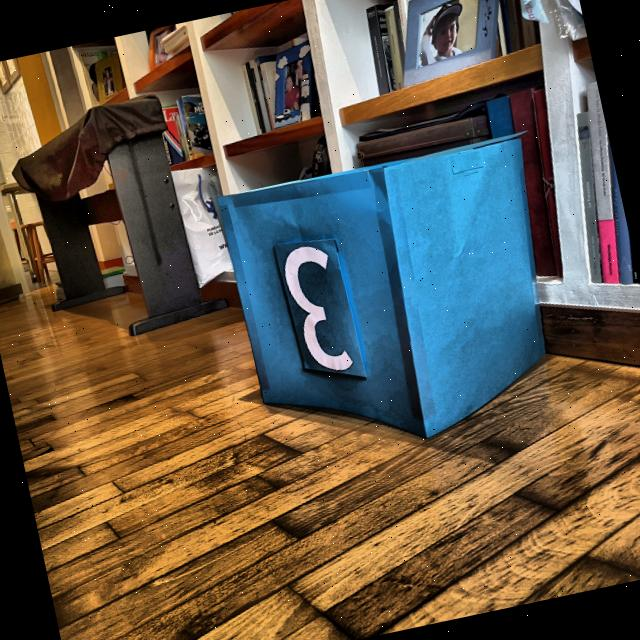blue box: (210, 130, 570, 472)
three: (274, 235, 360, 382)
